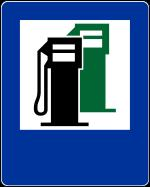Petrol Pump- Gas Station: (10, 12, 137, 137)
